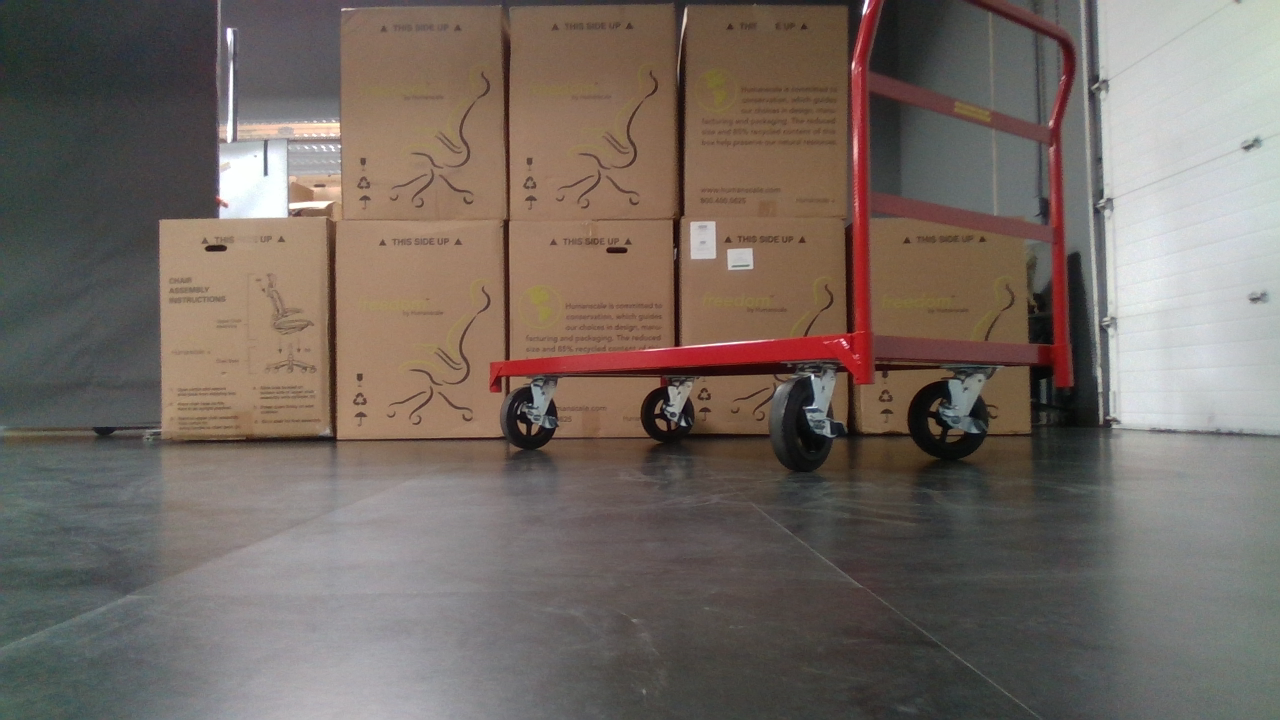Dolly: (483, 0, 1084, 479)
Wheel: (903, 363, 999, 467), (770, 374, 846, 477), (498, 379, 573, 452), (638, 381, 707, 443)
